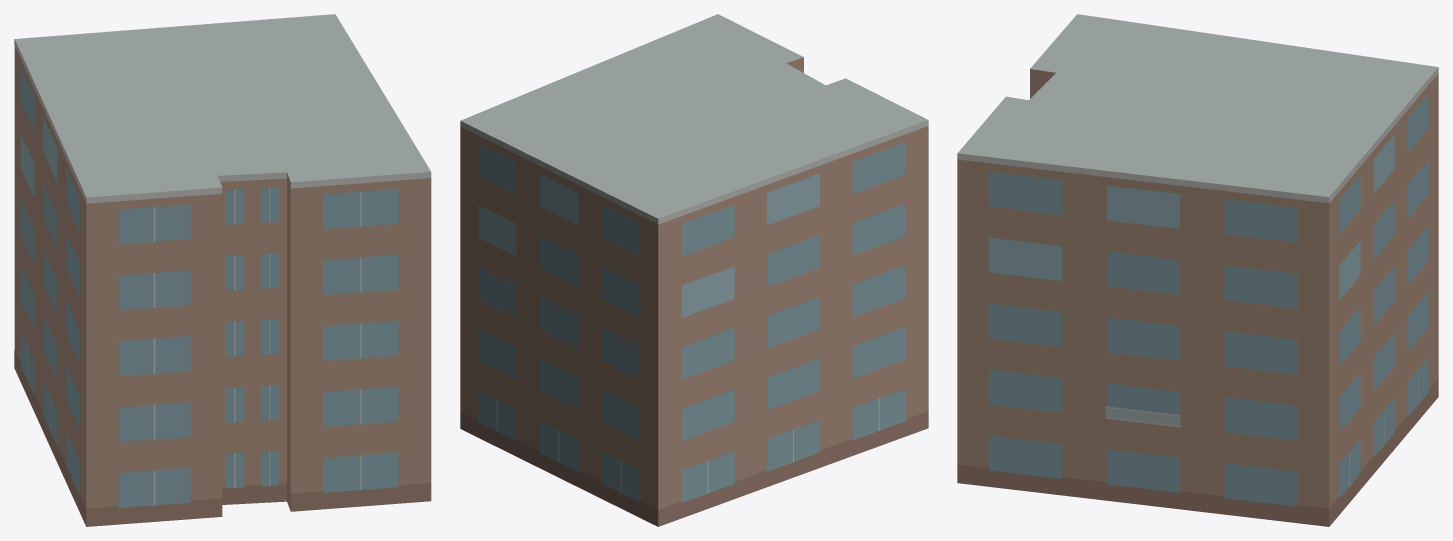
File: survey-upis-32931631.glb
3 renders of one model, left to right at view 1: azimuth 30°, elevation 25°; view 2: azimuth 150°, elevation 25°; view 3: azimuth 270°, elevation 25°, orthographic. The views are drawn at different scales.
Visible parts, largest first — view 1: survey-upis-32931631.tmp; view 2: survey-upis-32931631.tmp; view 3: survey-upis-32931631.tmp.
Part boxes in pixels (x1=…): survey-upis-32931631.tmp: x1=14, y1=14, x2=431, y2=526; survey-upis-32931631.tmp: x1=460, y1=14, x2=928, y2=526; survey-upis-32931631.tmp: x1=957, y1=14, x2=1438, y2=526.
Bounding box in the file's own units: 15.49 × 13 × 17.2.
